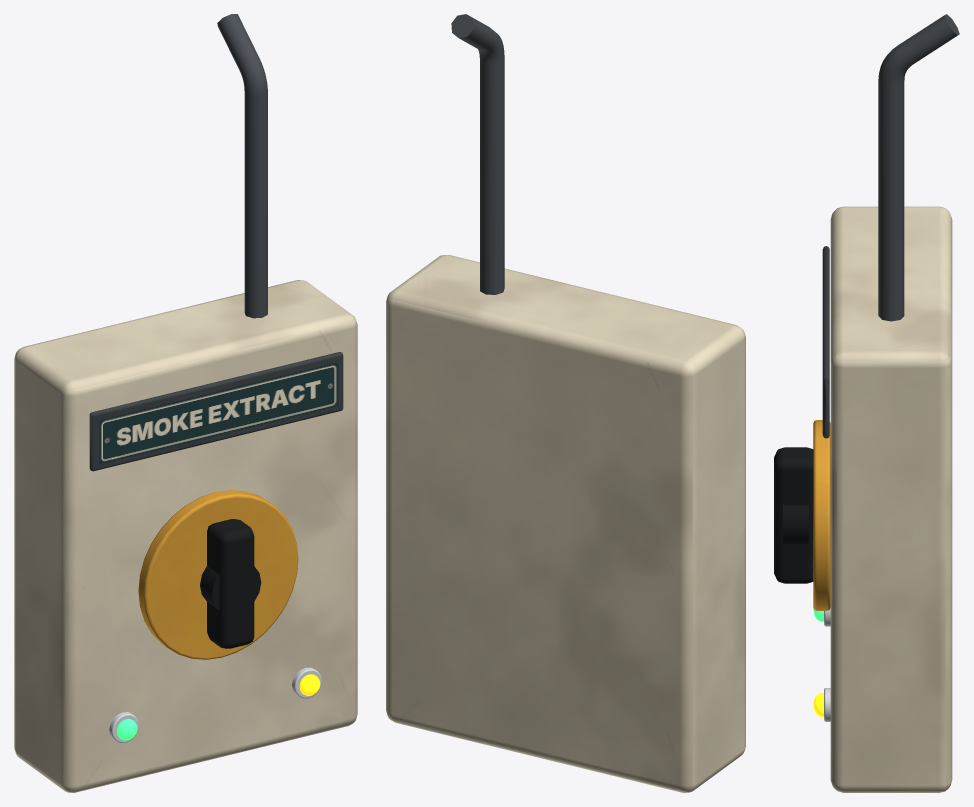
Rendered from VentPanel.glb.
3 renders of one model, left to right at view 1: azimuth 30°, elevation 25°; view 2: azimuth 150°, elevation 25°; view 3: azimuth 270°, elevation 25°, orthographic. The views are drawn at different scales.
Parts seen in each view (by area): view 1: VentPanel_Body, VentPanel_FanSwitch; view 2: VentPanel_Body; view 3: VentPanel_Body, VentPanel_FanSwitch.
Part boxes in pixels (x1,y1,x2,y2): VentPanel_Body: (14, 14, 357, 792); VentPanel_FanSwitch: (200, 519, 261, 648); VentPanel_Body: (386, 14, 745, 792); VentPanel_Body: (813, 14, 959, 792); VentPanel_FanSwitch: (774, 447, 813, 583).
Bounding box in the file's own units: 0.42 × 0.9422 × 0.2137.
Materials: 9 (4 with a texture image).
